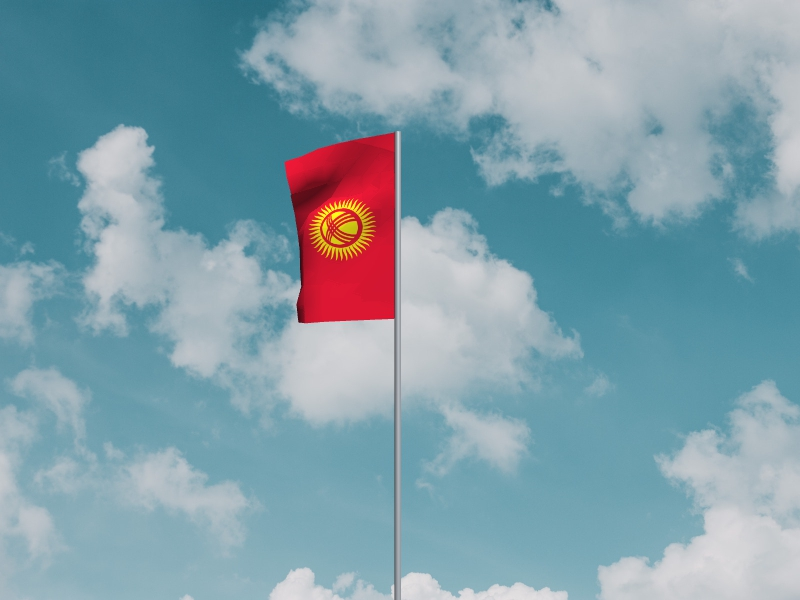kg: (284, 134, 395, 325)
